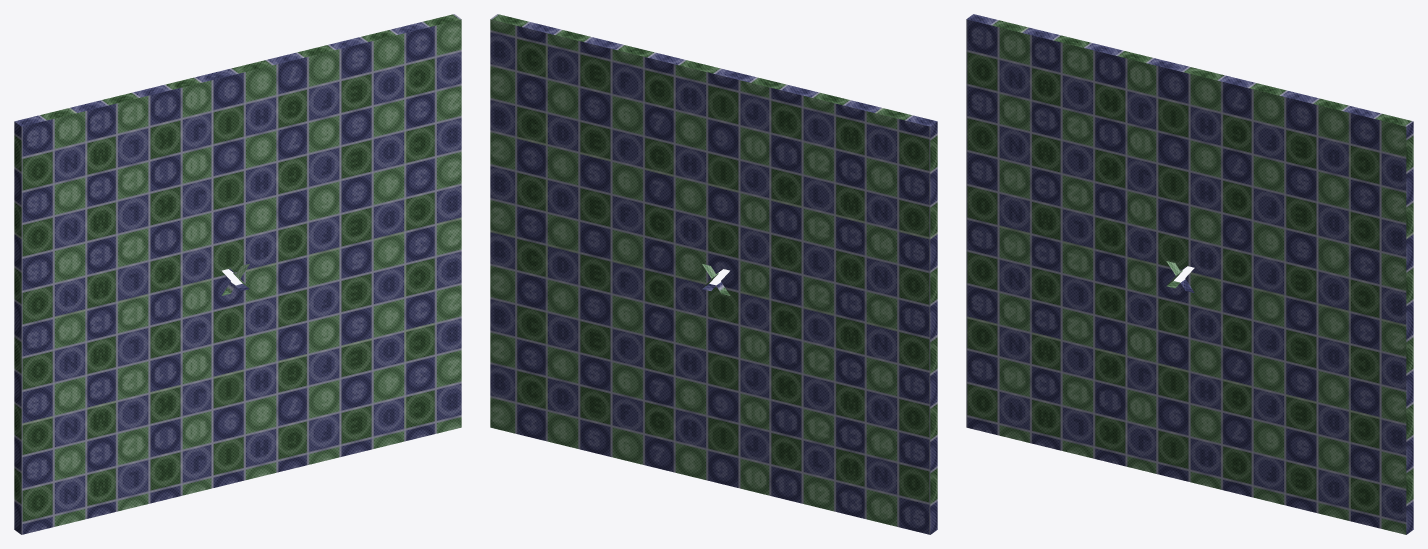
The model's file is Barriera_X.FBX.
3 renders of one model, left to right at view 1: azimuth 30°, elevation 25°; view 2: azimuth 150°, elevation 25°; view 3: azimuth 330°, elevation 25°, orthographic.
Parts seen in each view (by area): view 1: BARRIERA_X; view 2: BARRIERA_X; view 3: BARRIERA_X.
Boxes of the visible parts, x1,y1,x2,y2 form: BARRIERA_X: (14,14,461,534); BARRIERA_X: (490,14,937,534); BARRIERA_X: (966,14,1413,534).
Bounding box in the file's own units: 3498 × 3100 × 100.
1 material, 1 textured.
